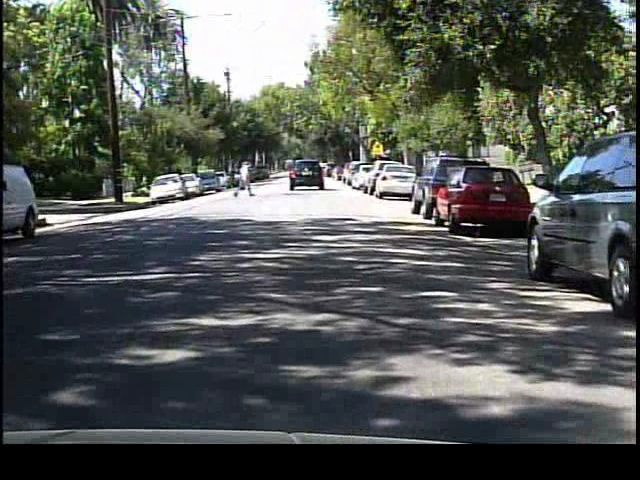person: (235, 159, 258, 203)
